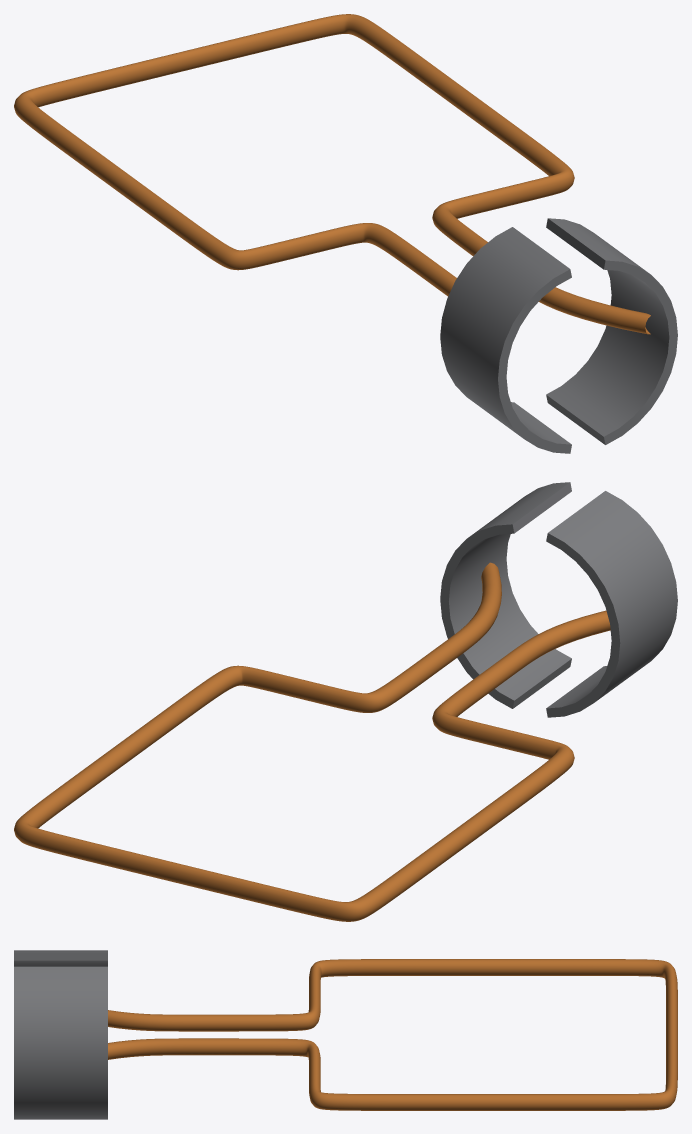
Rendered from DCcoil6.glb.
3 renders of one model, top to bottom at view 1: azimuth 30°, elevation 25°; view 2: azimuth 150°, elevation 25°; view 3: azimuth 270°, elevation 25°, orthographic. The views are drawn at different scales.
Visible parts, largest first — view 1: NURBSパス.006, 円柱.003, 円柱.001; view 2: NURBSパス.006, 円柱.003, 円柱.001; view 3: NURBSパス.006, 円柱.001, 円柱.003.
Part boxes in pixels (x1,y1,x2,y2): NURBSパス.006: (14, 14, 650, 334); 円柱.003: (440, 227, 571, 453); 円柱.001: (546, 218, 677, 444); NURBSパス.006: (14, 562, 610, 921); 円柱.003: (546, 491, 677, 717); 円柱.001: (440, 482, 571, 708); NURBSパス.006: (108, 959, 677, 1110); 円柱.001: (14, 966, 107, 1119); 円柱.003: (14, 950, 107, 966).
Size of the model in its own units: 3.58 by 1.77 by 7.06.
